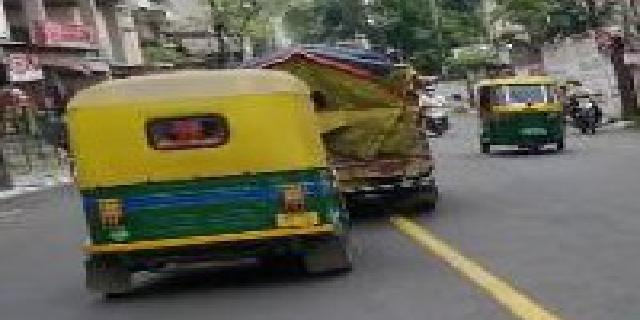Autorickshaw: (60, 67, 355, 295), (472, 78, 568, 158)
Minitruck: (259, 55, 439, 214)
Motorbike: (564, 78, 603, 138), (417, 83, 451, 139)
